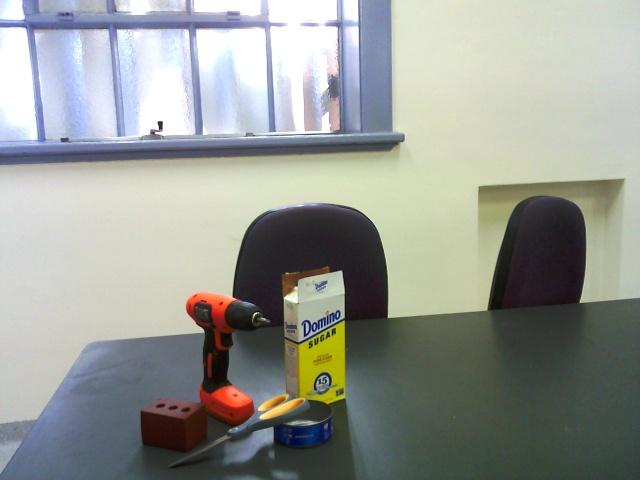004_sugar_box: (277, 267, 347, 406)
007_tuna_fish_can: (271, 401, 338, 444)
035_power_drill: (182, 291, 270, 424)
037_scissors: (160, 395, 307, 471)
061_foam_brick: (135, 395, 209, 454)
